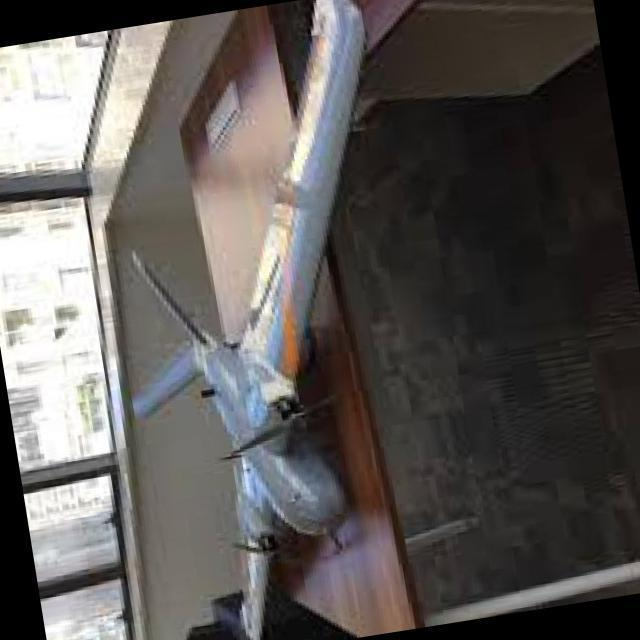iha: (71, 15, 501, 636)
